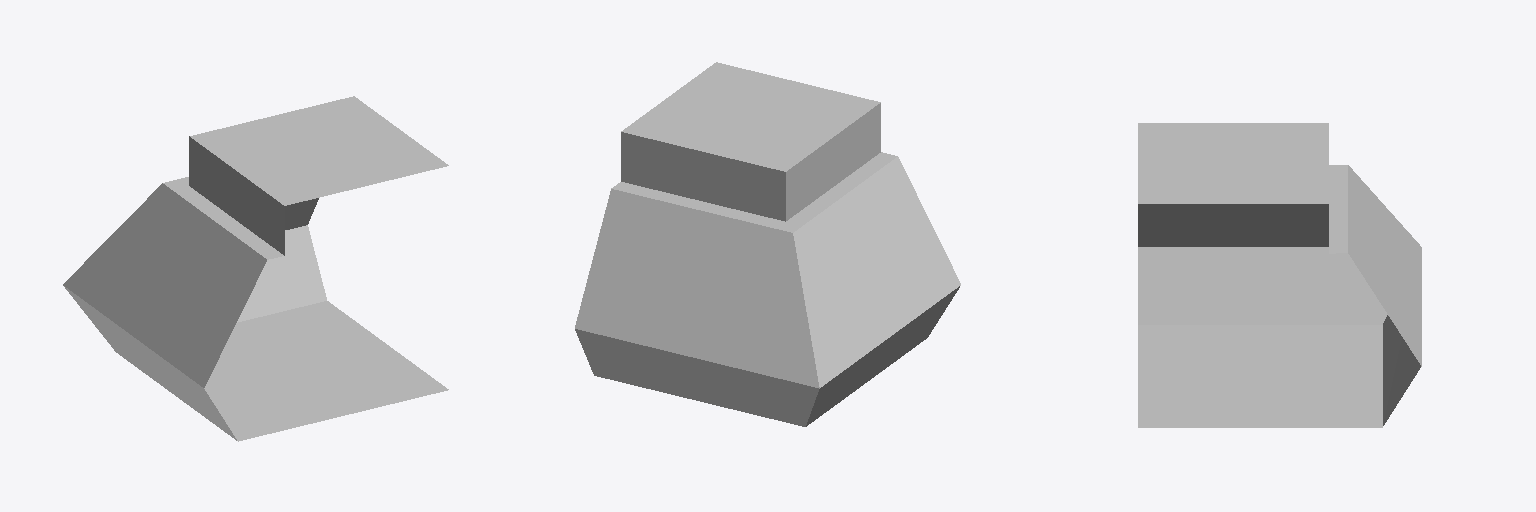
File: room-corner.obj
The picture shows the model from 3 angles: view 1: azimuth 30°, elevation 25°; view 2: azimuth 150°, elevation 25°; view 3: azimuth 270°, elevation 25°; orthographic projection.
Visible parts, largest first — view 1: room_corner; view 2: room_corner; view 3: room_corner.
Part boxes in pixels (bbox=[...]): room_corner: bbox=[63, 96, 448, 441]; room_corner: bbox=[575, 62, 960, 426]; room_corner: bbox=[1138, 123, 1421, 427].
Bounding box in the file's own units: 5.8 × 5.07 × 5.8.